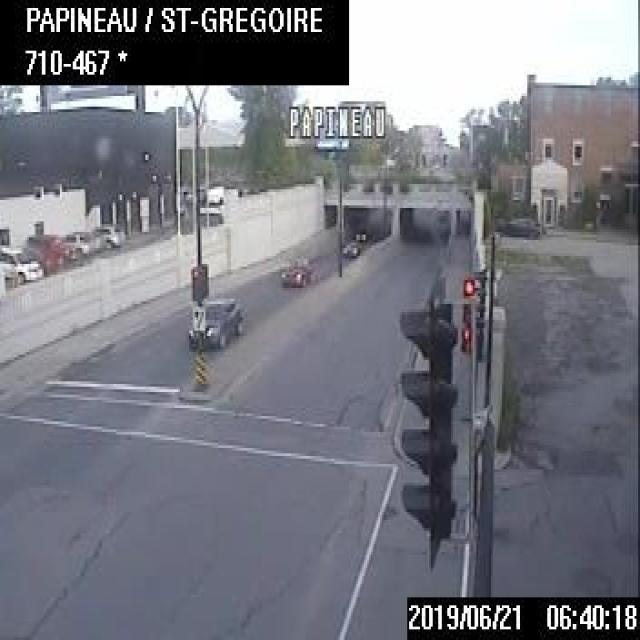vehicle: (185, 293, 242, 347), (0, 244, 42, 279), (27, 233, 66, 269), (276, 252, 315, 282), (61, 227, 92, 260), (90, 221, 124, 250), (340, 238, 360, 257), (354, 223, 368, 240)
